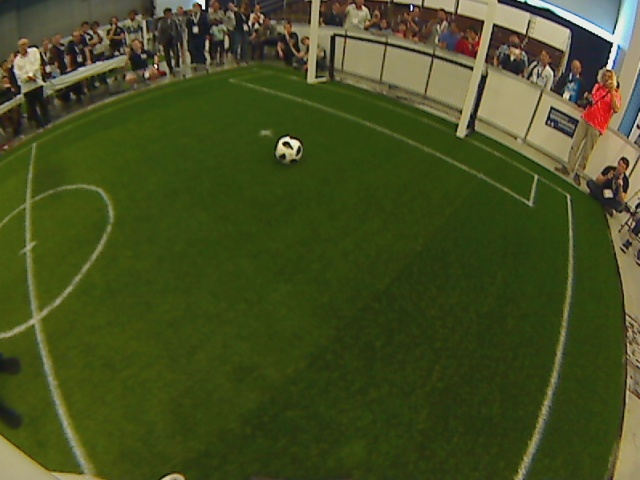ball: (274, 135, 304, 164)
